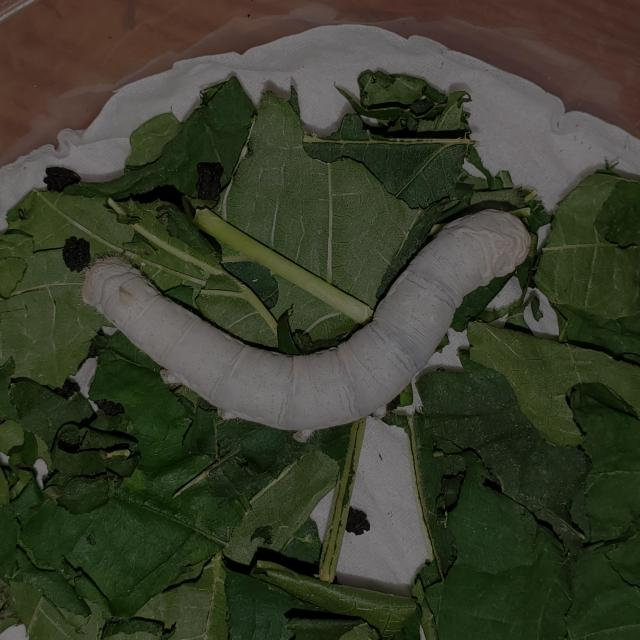Healthy: (74, 196, 541, 448)
